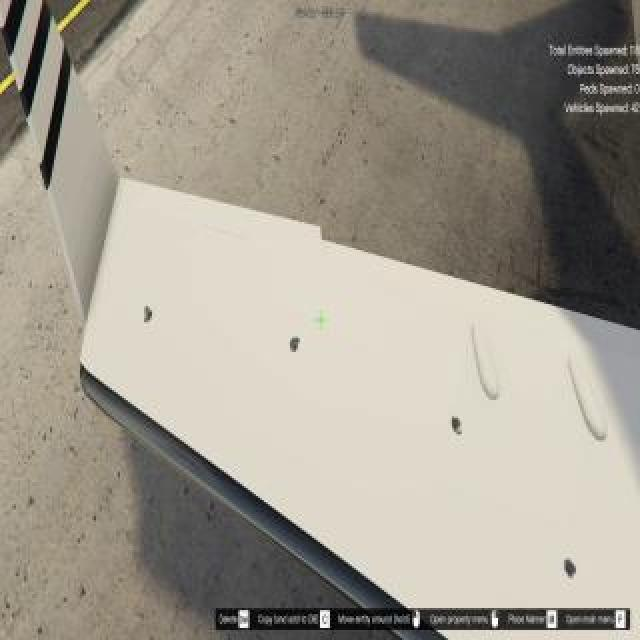crack: (449, 412, 467, 442), (563, 554, 581, 582), (142, 303, 158, 327), (288, 333, 304, 357)
